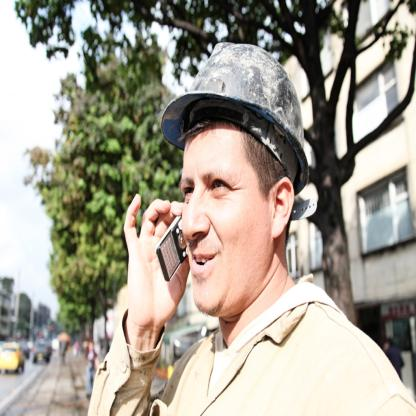Helmet: (164, 49, 308, 204)
